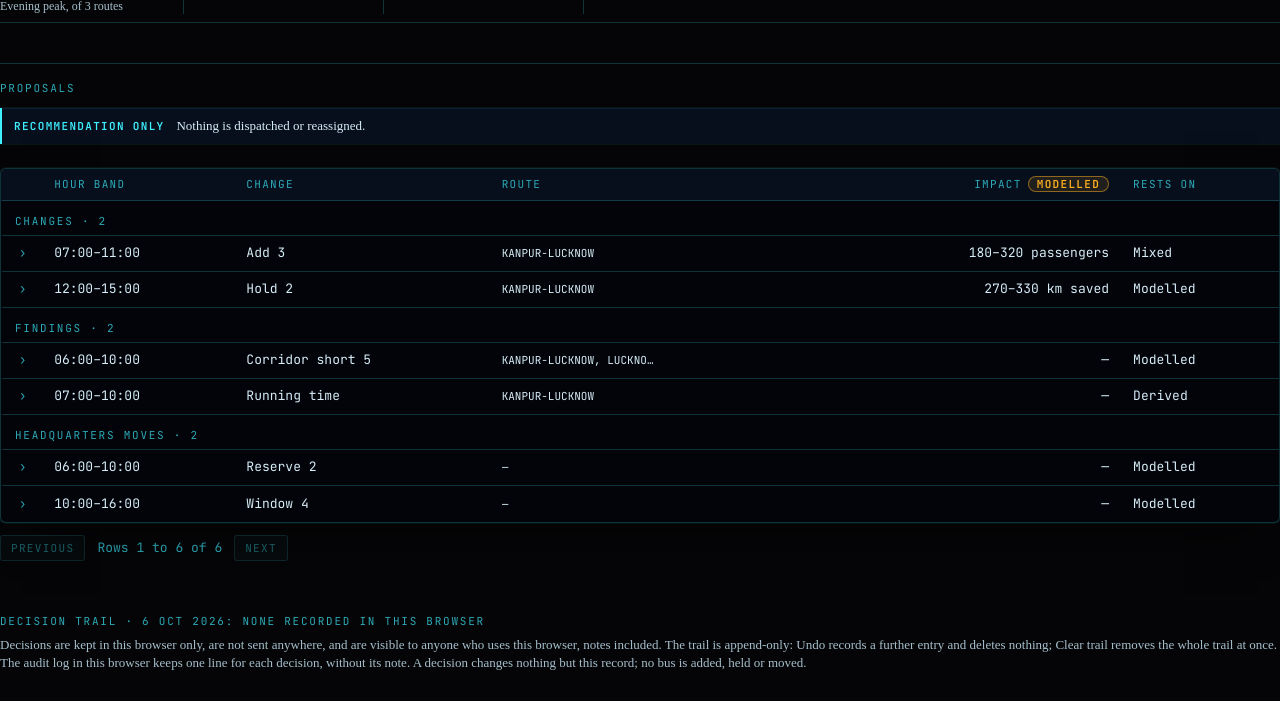
it: the Service page › a corridor decision is said by its routes
This screenshot has width=1280, height=701.
(page scrolled)
Click the row named "06:00–10:00 Corridor short 5 KANPUR-LUCKNOW, LUCKNOW-KANPUR,": (640, 360) [1,342,1279,378]
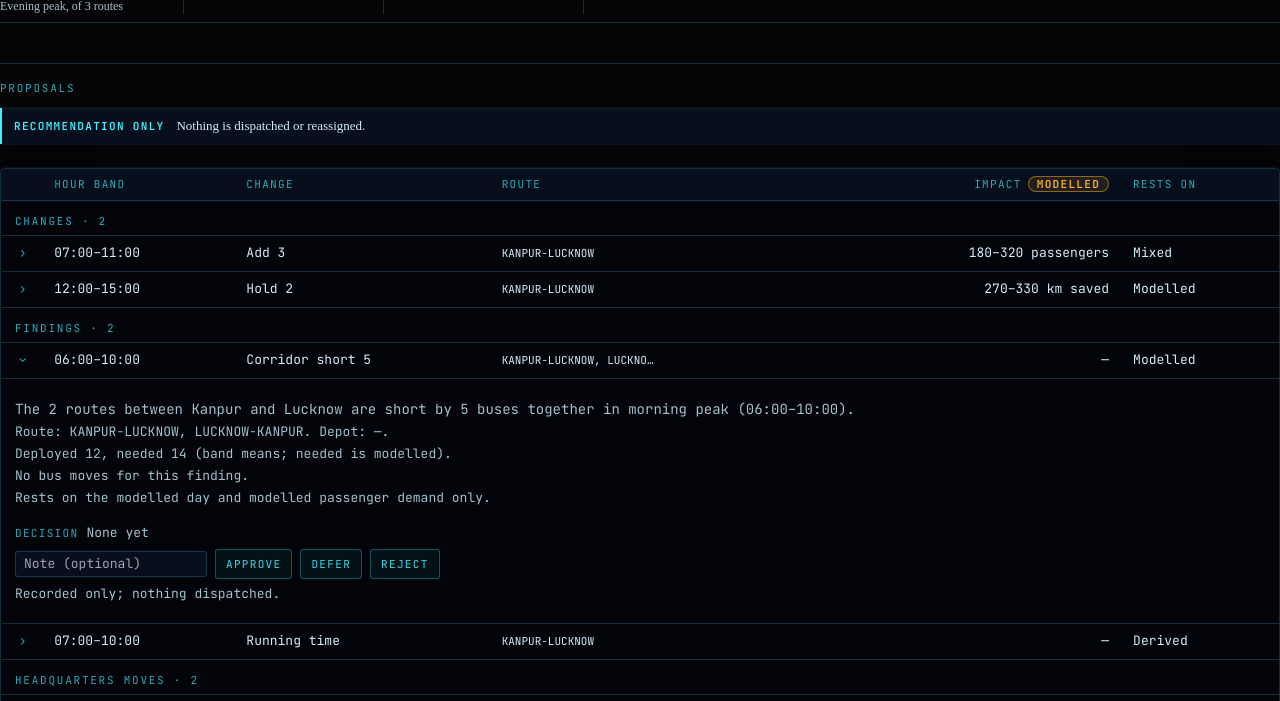
Click the button "Defer": (331, 564) [300,548,362,578]
(page scrolled)
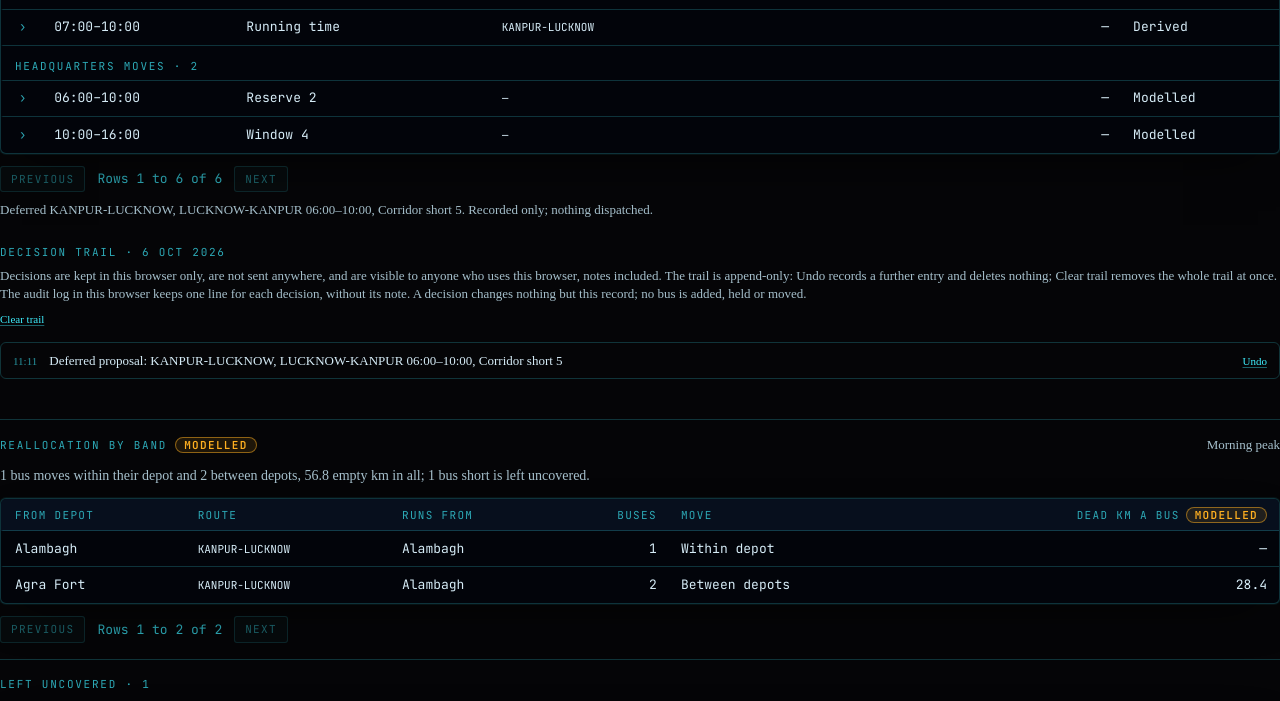
Expected: the list item shows "Deferred proposal: KANPUR-LUCKNOW, LUCKNOW-KANPUR 06:00–10:00", [49,352,563,368]
